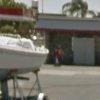Boat: (1, 30, 58, 82)
